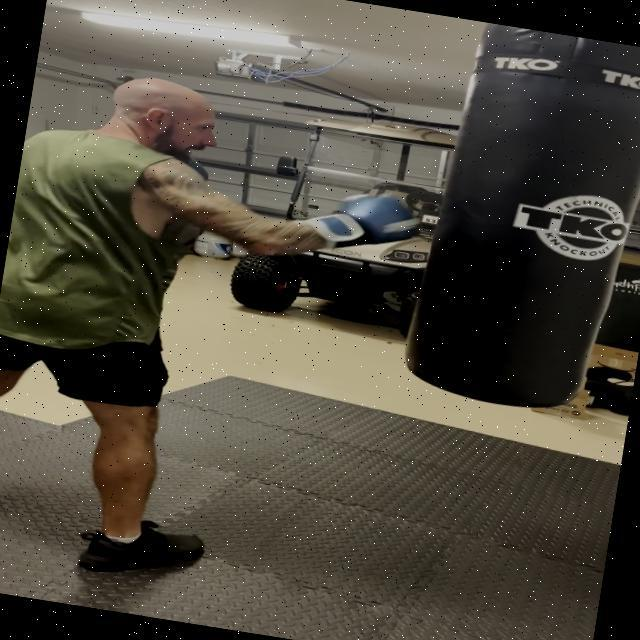bag: (423, 21, 640, 421)
jab: (8, 32, 482, 317)
